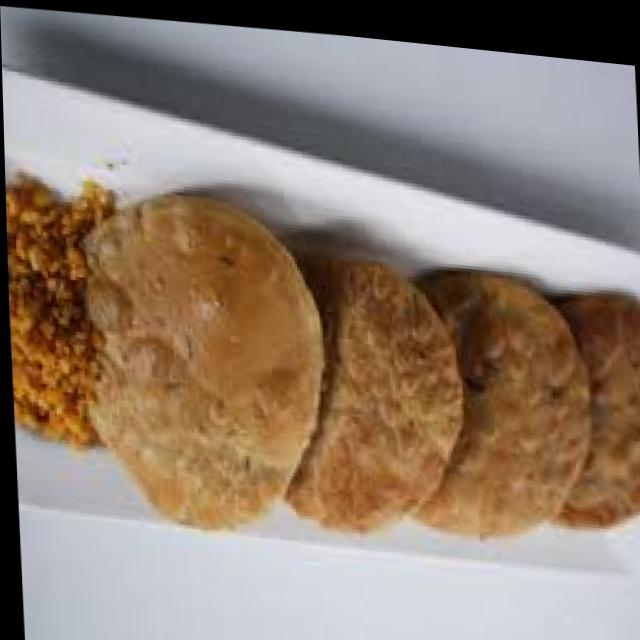POORI: (74, 194, 640, 539)
